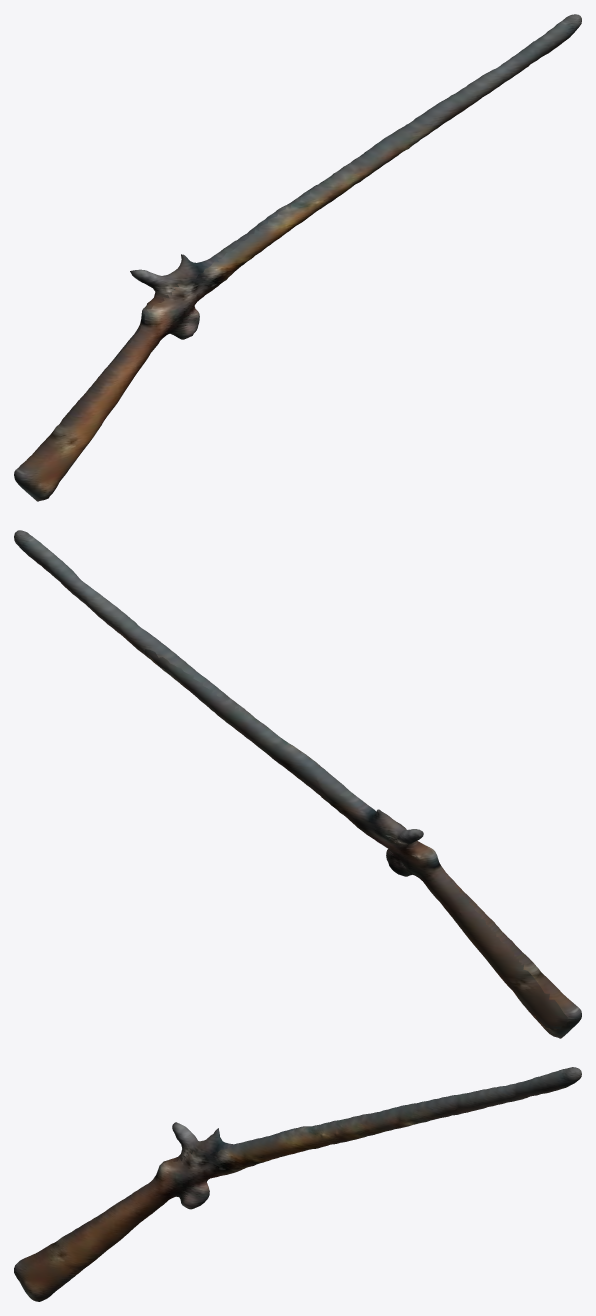
File: kfl-2212.glb
The picture shows the model from 3 angles, top to bottom: view 1: azimuth 30°, elevation 25°; view 2: azimuth 150°, elevation 25°; view 3: azimuth 330°, elevation 25°; orthographic projection. The views are drawn at different scales.
Parts seen in each view (by area): view 1: geometry_0; view 2: geometry_0; view 3: geometry_0.
Part boxes in pixels (x1,y1,x2,y2): geometry_0: (14, 14, 581, 501); geometry_0: (14, 530, 581, 1038); geometry_0: (14, 1067, 581, 1301).
Size of the model in its own units: 0.9891 by 0.6106 by 0.1011.
Materials: 1 (1 with a texture image).
